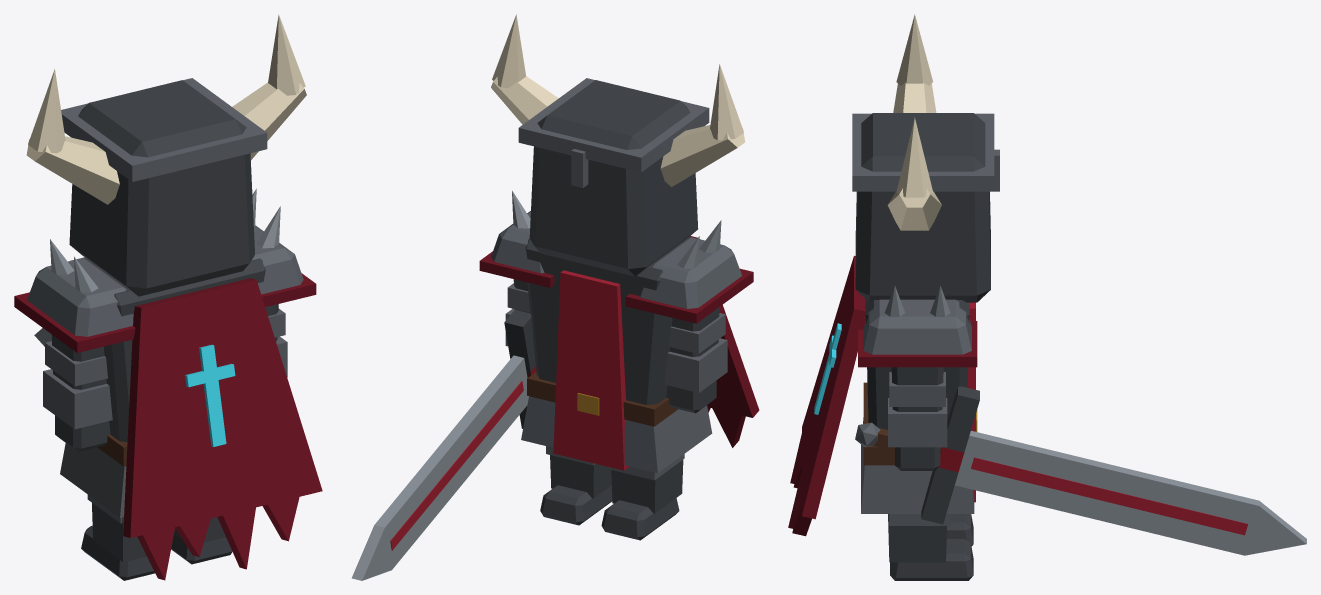
Rendered from CH_BloodKnight.fbx.
3 views of the same model, side by side, from view 1: azimuth 30°, elevation 25°; view 2: azimuth 150°, elevation 25°; view 3: azimuth 270°, elevation 25° (orthographic). The views are drawn at different scales.
Parts seen in each view (by area): view 1: Cape, Head, HelmRim, PauldronL, Body, HornL, Faulds, GauntletL, HornR, PauldronRimL, PauldronR, HornTipL (+18 smaller); view 2: Head, Tabard, Blade, Body, Faulds, HelmRim, PauldronL, HornL, Cape, LegL, GauntletL, FootL (+16 smaller); view 3: Head, Blade, Cape, PauldronR, Faulds, HelmRim, Fuller, Guard, Body, GauntletR, LegR, FootR (+10 smaller).
Boxes of the visible parts, x1=… form: Cape: x1=123, y1=278, x2=322, y2=537; Head: x1=69, y1=80, x2=254, y2=296; HelmRim: x1=61, y1=78, x2=267, y2=181; PauldronL: x1=27, y1=258, x2=133, y2=336; Body: x1=70, y1=257, x2=265, y2=442; HornL: x1=26, y1=136, x2=119, y2=204; Faulds: x1=60, y1=443, x2=126, y2=517; GauntletL: x1=43, y1=369, x2=112, y2=429; HornR: x1=232, y1=82, x2=306, y2=159; PauldronRimL: x1=14, y1=292, x2=135, y2=352; PauldronR: x1=252, y1=225, x2=303, y2=294; HornTipL: x1=28, y1=69, x2=65, y2=153; Head: x1=529, y1=80, x2=698, y2=276; Tabard: x1=553, y1=270, x2=629, y2=470; Blade: x1=352, y1=355, x2=528, y2=580; Body: x1=525, y1=236, x2=696, y2=404; Faulds: x1=521, y1=396, x2=712, y2=473; HelmRim: x1=518, y1=78, x2=709, y2=172; PauldronL: x1=639, y1=237, x2=742, y2=308; HornL: x1=660, y1=125, x2=744, y2=186; Cape: x1=690, y1=236, x2=759, y2=417; LegL: x1=611, y1=460, x2=683, y2=513; GauntletL: x1=664, y1=338, x2=727, y2=392; FootL: x1=601, y1=498, x2=679, y2=540; Head: x1=855, y1=113, x2=990, y2=302; Blade: x1=955, y1=430, x2=1306, y2=555; Cape: x1=802, y1=255, x2=865, y2=519; PauldronR: x1=863, y1=299, x2=971, y2=354; Faulds: x1=861, y1=417, x2=974, y2=513; HelmRim: x1=852, y1=113, x2=994, y2=191; Fuller: x1=971, y1=457, x2=1247, y2=535; Guard: x1=921, y1=386, x2=979, y2=524; Body: x1=865, y1=299, x2=969, y2=429; GauntletR: x1=888, y1=398, x2=947, y2=447; LegR: x1=888, y1=514, x2=946, y2=562; FootR: x1=890, y1=539, x2=973, y2=580.
Size of the model in its own units: 1.05 by 1.83 by 1.91.
